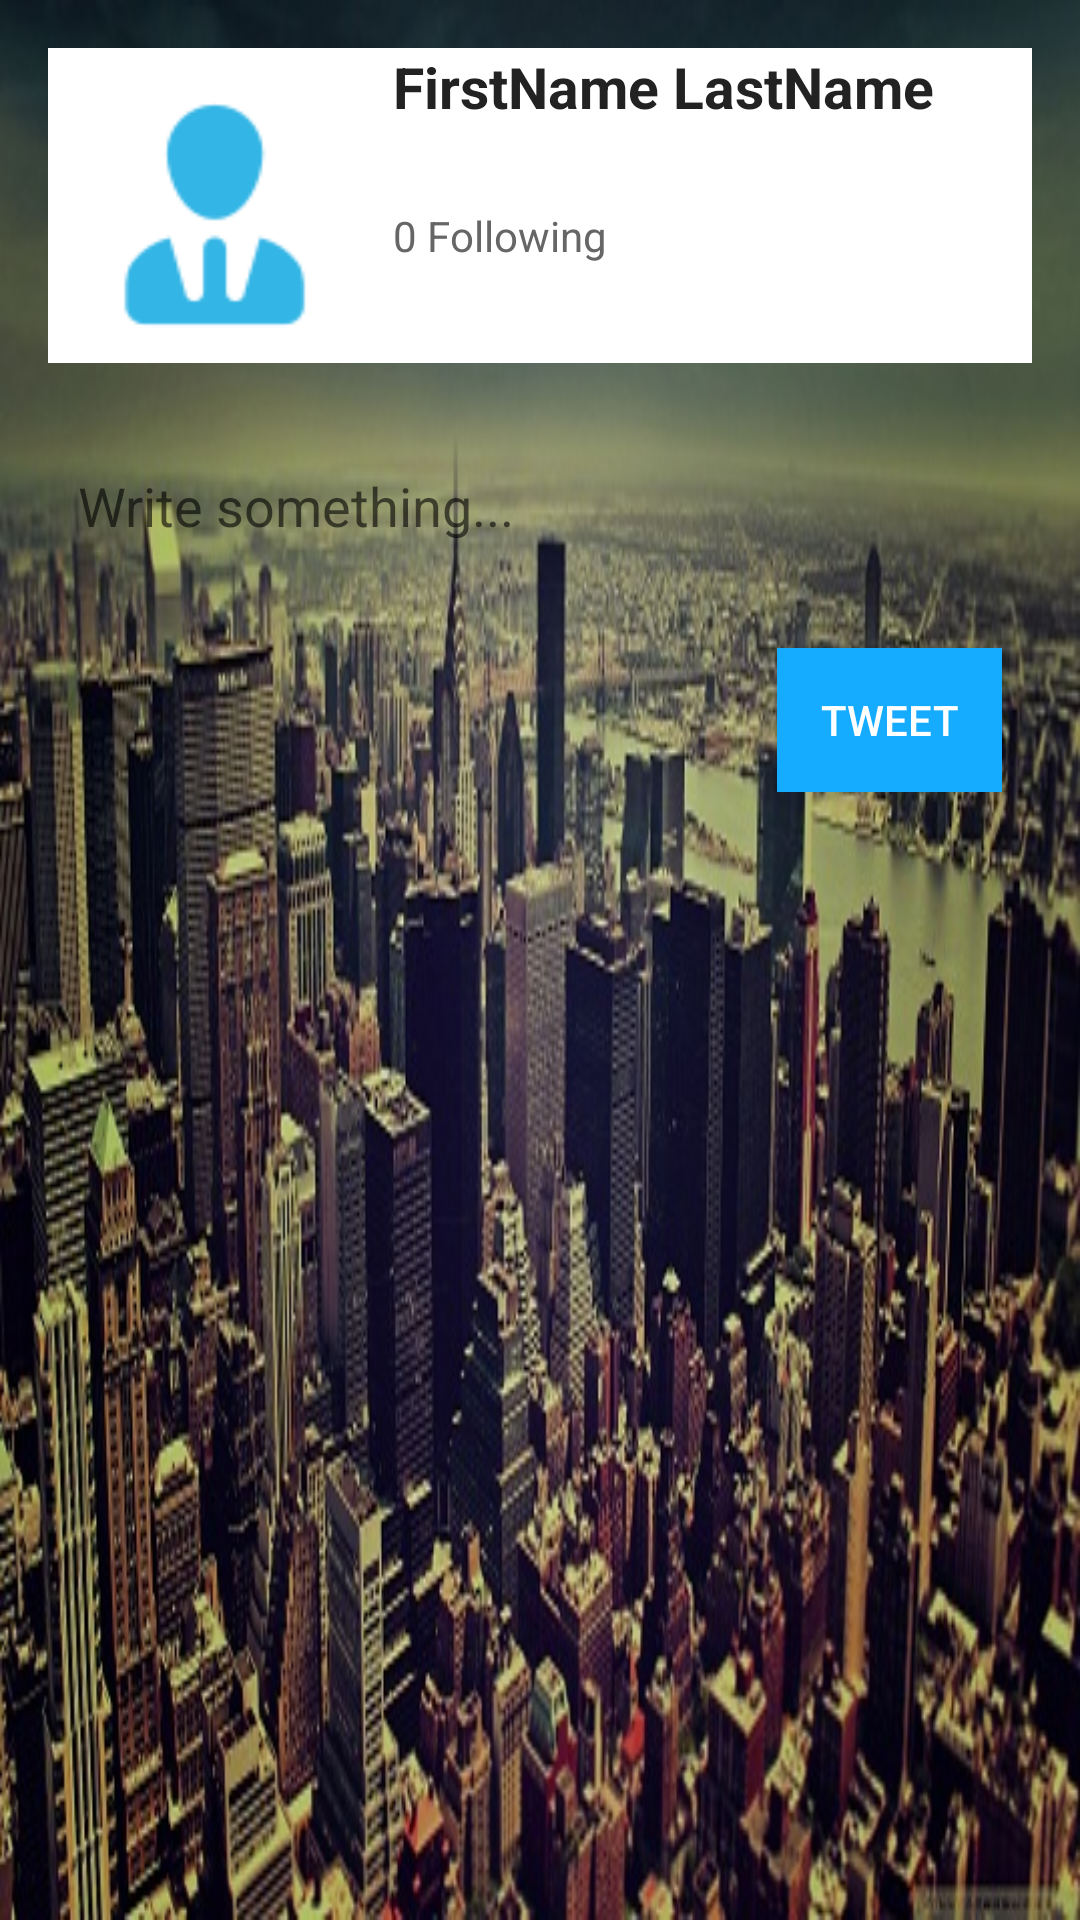

Locate icon controls on the screen. Image size 1080*1920, boxes as (x1, y1, x2, y2).
user: (124, 104, 305, 325)
